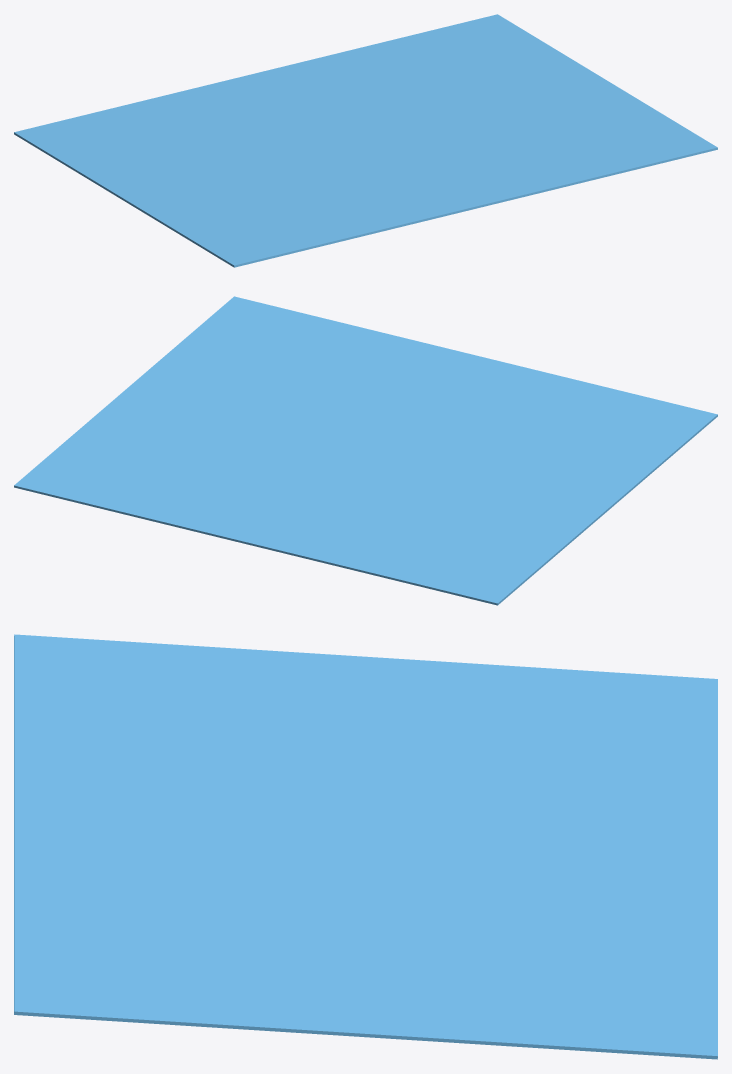
3 renders of one model, top to bottom at view 1: azimuth 30°, elevation 25°; view 2: azimuth 150°, elevation 25°; view 3: azimuth 270°, elevation 25°, orthographic. The views are drawn at different scales.
Visible parts, largest first — view 1: 0C6E641F3DC18749666DF3C59C03E7384C05AFCA|:|7325FF14D543_073d; view 2: 0C6E641F3DC18749666DF3C59C03E7384C05AFCA|:|7325FF14D543_073d; view 3: 0C6E641F3DC18749666DF3C59C03E7384C05AFCA|:|7325FF14D543_073d.
Part boxes in pixels (x1,y1,x2,y2): 0C6E641F3DC18749666DF3C59C03E7384C05AFCA|:|7325FF14D543_073d: (14, 14, 717, 267); 0C6E641F3DC18749666DF3C59C03E7384C05AFCA|:|7325FF14D543_073d: (14, 296, 717, 605); 0C6E641F3DC18749666DF3C59C03E7384C05AFCA|:|7325FF14D543_073d: (14, 634, 717, 1059).
Size of the model in its own units: 240 by 14.25 by 190.
